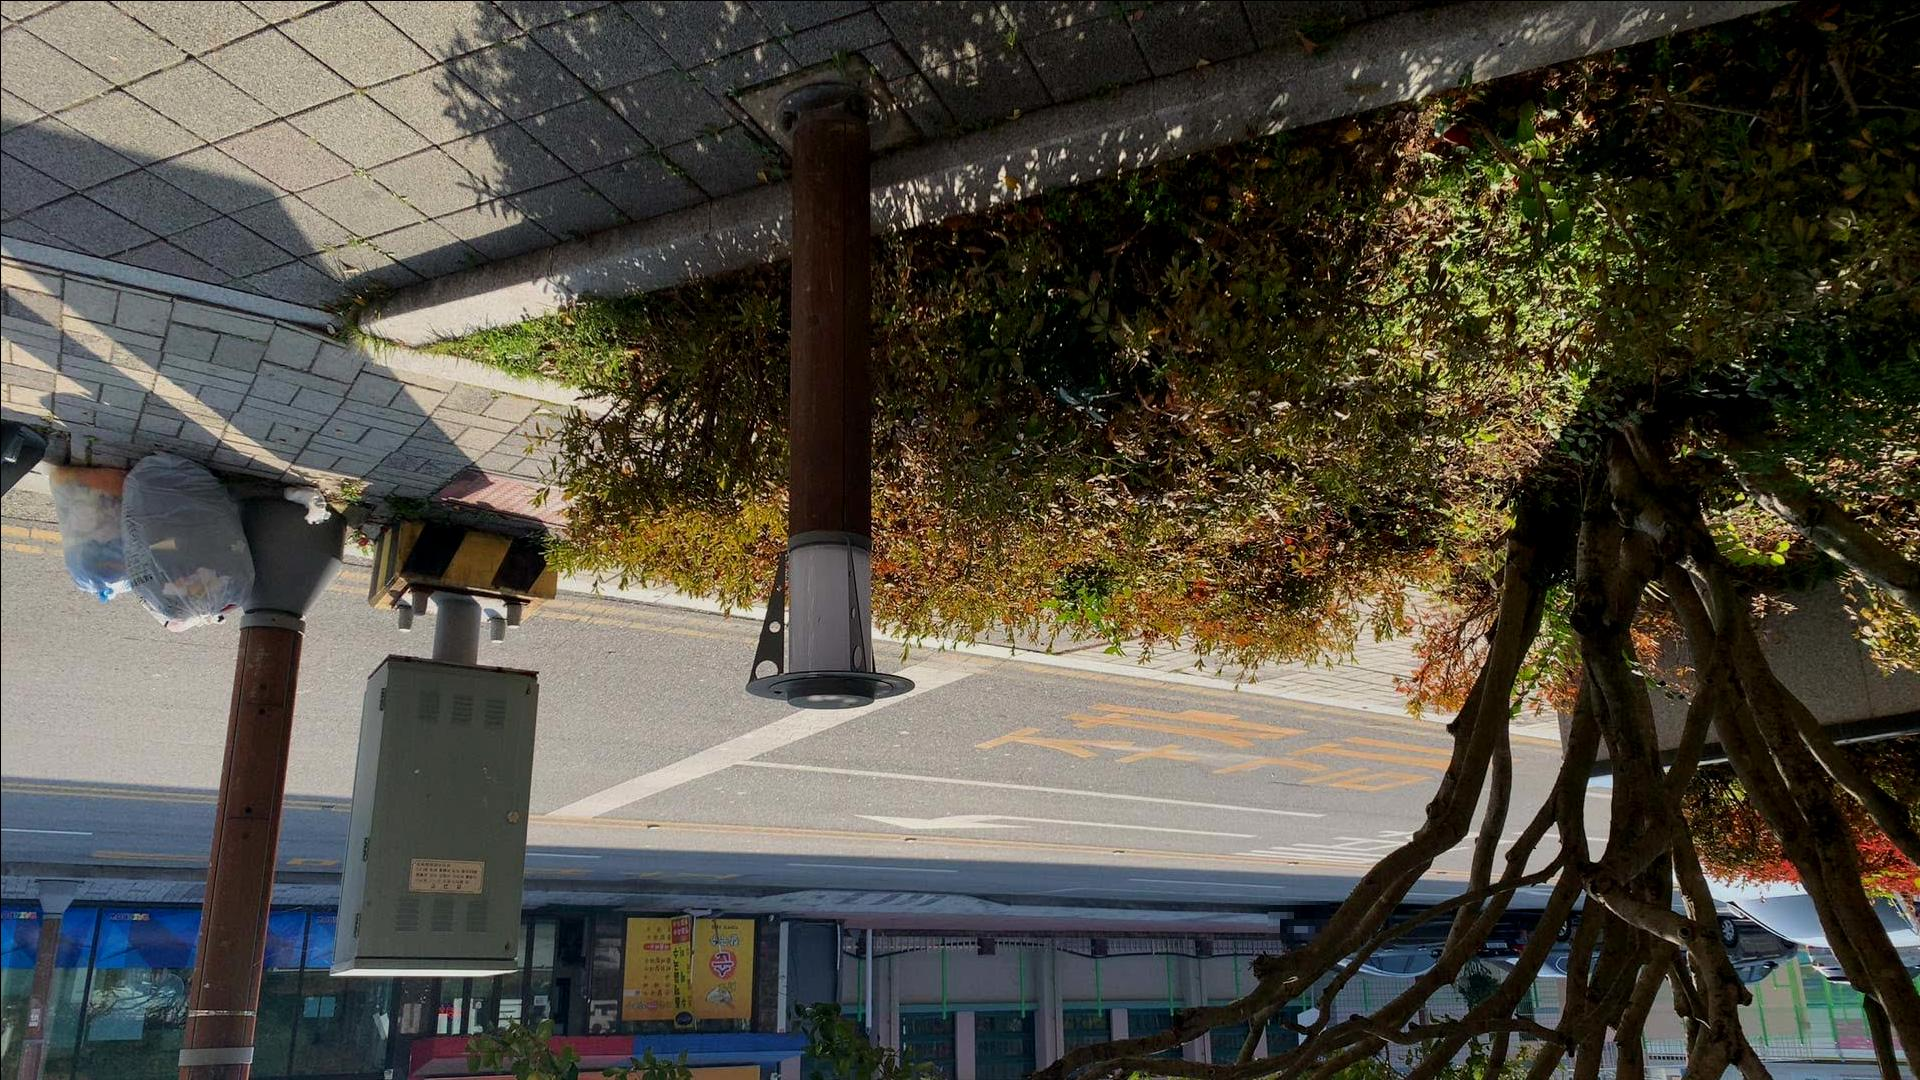white_bag: (112, 439, 257, 644), (40, 460, 146, 605)
